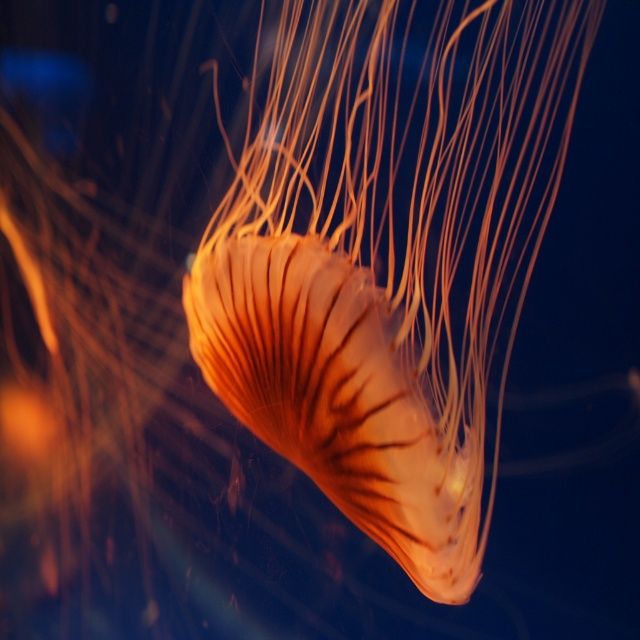Jellyfish: (133, 15, 640, 640)
